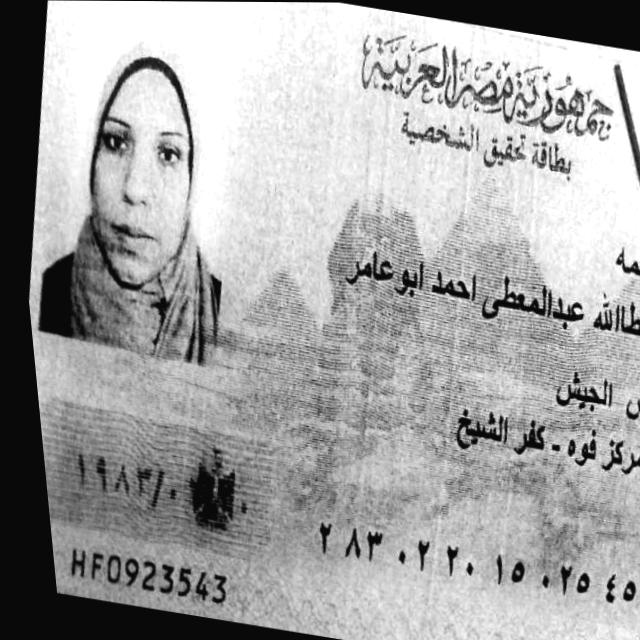front: (28, 0, 640, 640)
